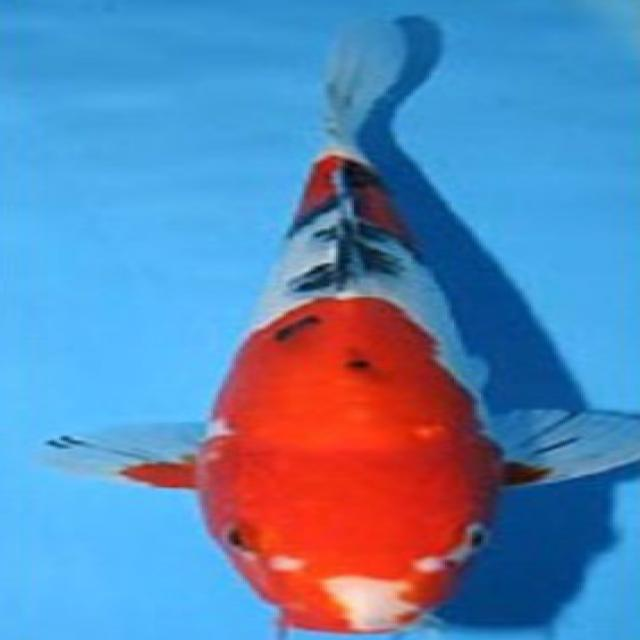Sanke: (43, 11, 638, 639)
